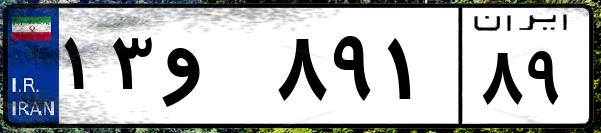1: (385, 28, 445, 110), (57, 26, 110, 100)
3: (110, 28, 158, 98)
8: (270, 28, 330, 110), (475, 38, 525, 113)
9: (330, 28, 385, 110), (525, 38, 570, 115)
و: (158, 20, 270, 120)
